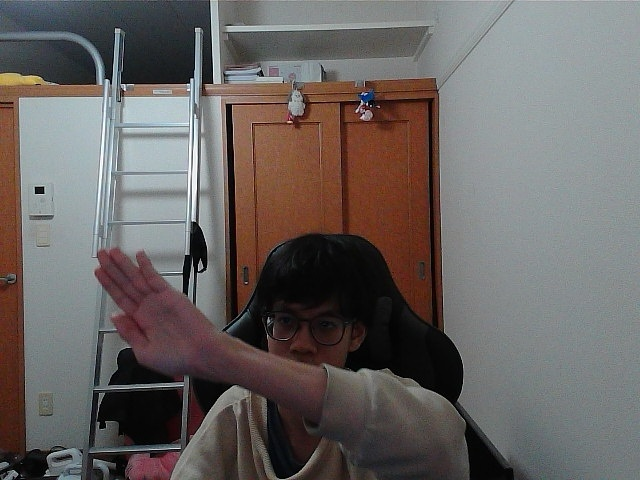open_palm: (100, 253, 198, 365)
